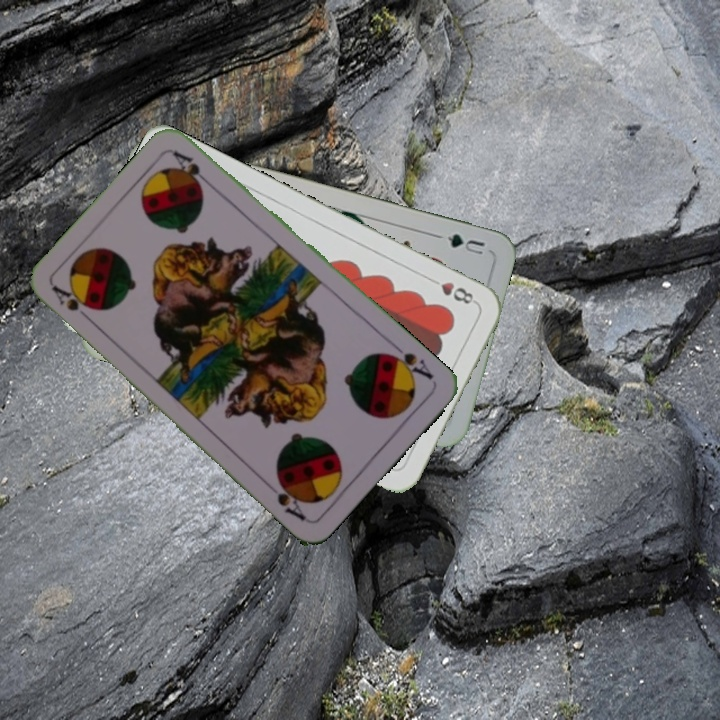GU: (443, 229, 487, 258)
H8: (424, 273, 479, 307)
SA: (382, 339, 436, 383), (47, 281, 96, 326)
